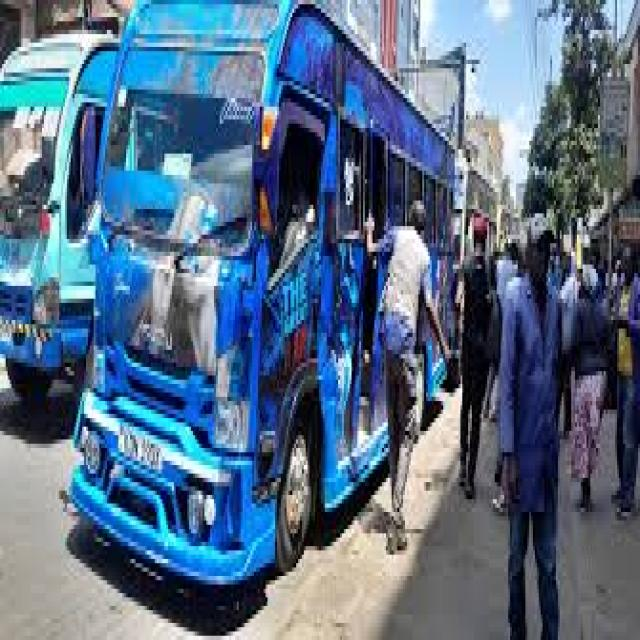bus: (53, 0, 467, 589)
